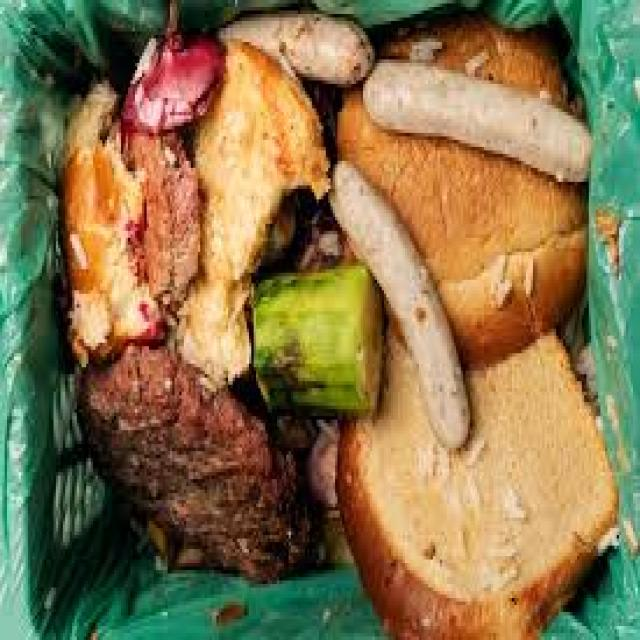Organik: (0, 0, 640, 640), (5, 0, 640, 640), (85, 290, 313, 604), (359, 23, 640, 272), (307, 123, 488, 460), (58, 88, 166, 318), (112, 8, 248, 182)
